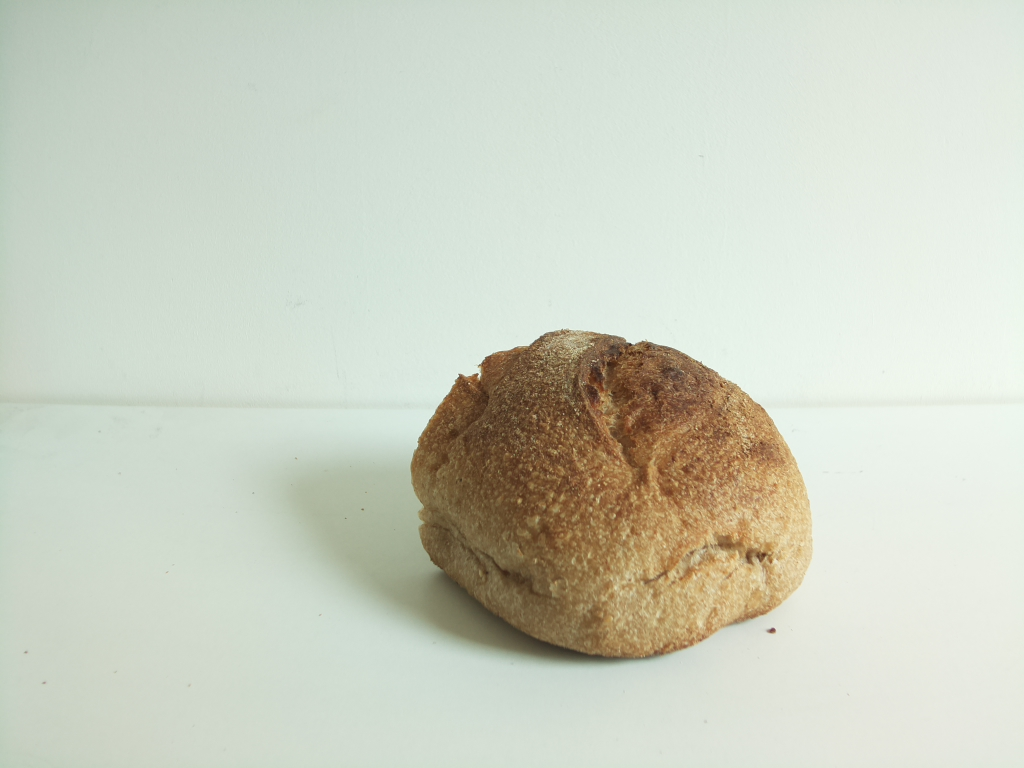bread: (410, 333, 817, 663)
